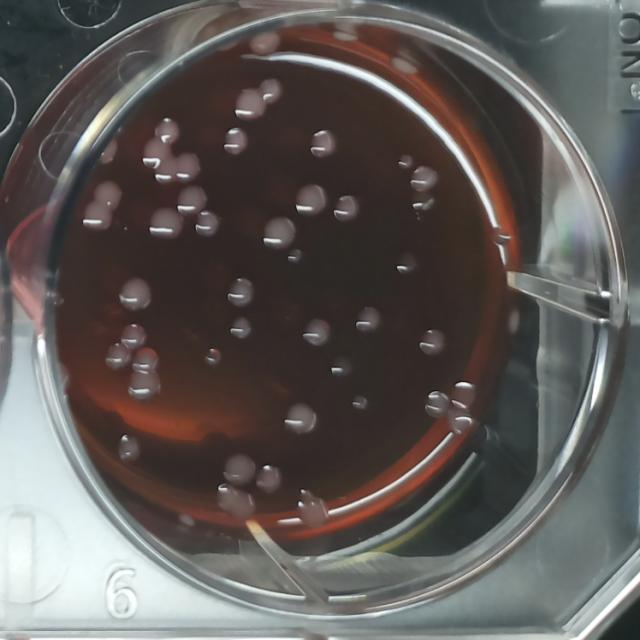Vibrio: (260, 213, 298, 254), (146, 205, 185, 244)
